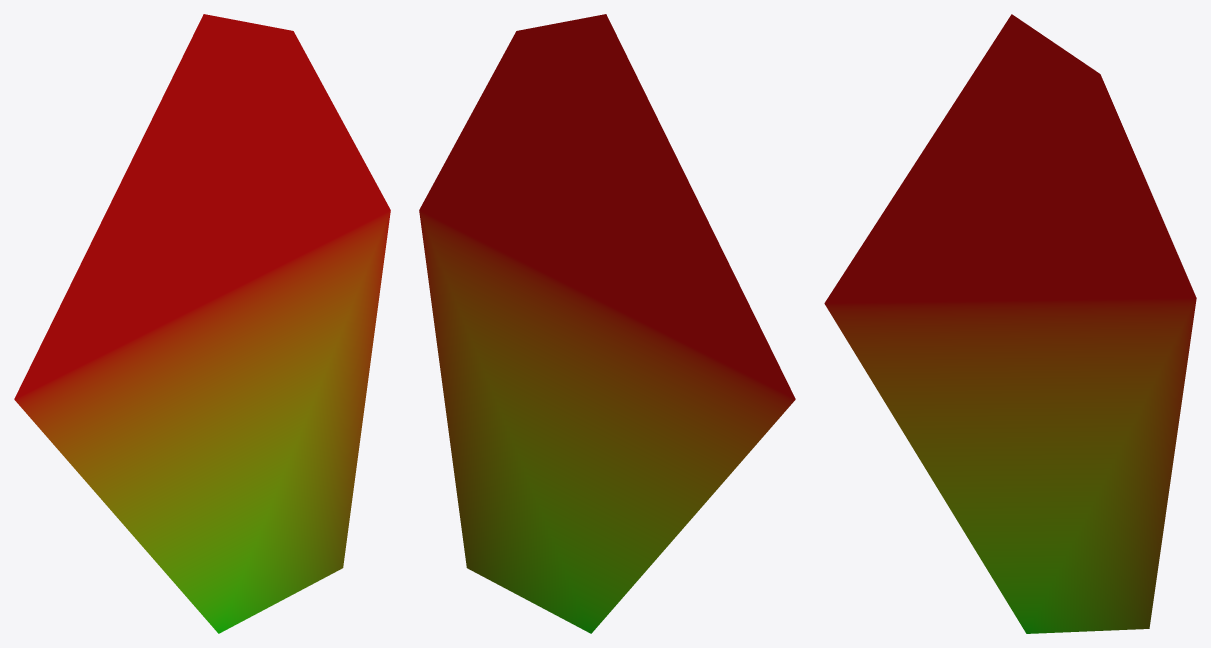
File: European Spindle_LOD4_Var4.fbx
3 views of the same model, side by side, from view 1: azimuth 30°, elevation 25°; view 2: azimuth 150°, elevation 25°; view 3: azimuth 330°, elevation 25° (orthographic).
Visible parts, largest first — view 1: _ob5e_Var4_LOD4; view 2: _ob5e_Var4_LOD4; view 3: _ob5e_Var4_LOD4.
Boxes of the visible parts, x1=… form: _ob5e_Var4_LOD4: x1=14, y1=14, x2=390, y2=633; _ob5e_Var4_LOD4: x1=419, y1=14, x2=795, y2=633; _ob5e_Var4_LOD4: x1=824, y1=14, x2=1196, y2=633.
Size of the model in its own units: 28.38 by 44.89 by 7.28e-12.
